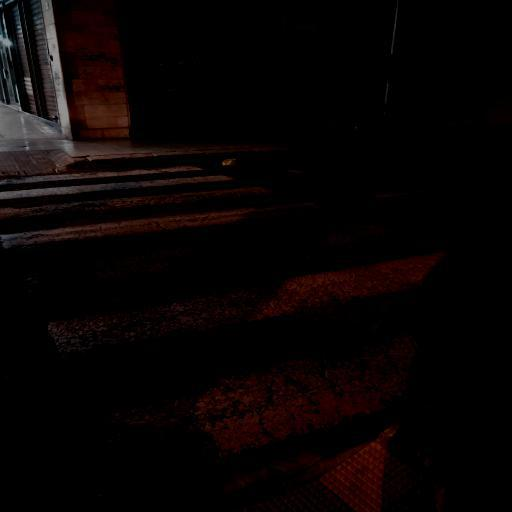crosswalk: (0, 195, 411, 298)
